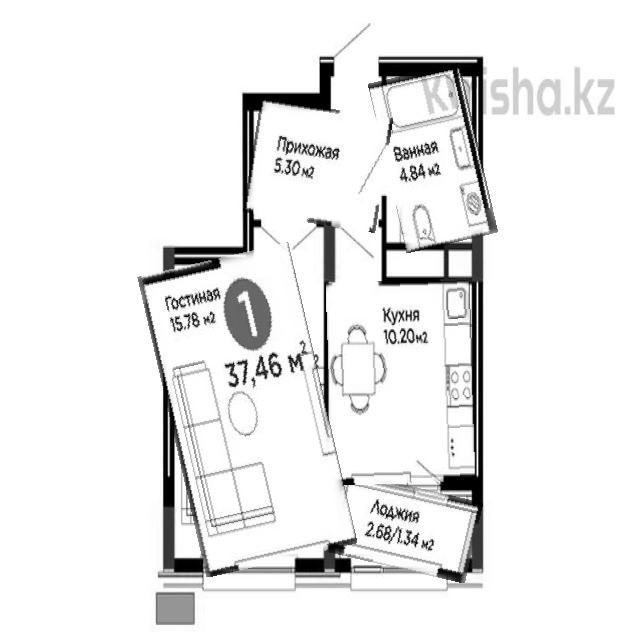balcony: (326, 478, 479, 575)
bathroom: (377, 67, 489, 249)
hallway: (247, 103, 389, 229)
kitchen: (328, 279, 474, 484)
living_room: (154, 248, 341, 571)
